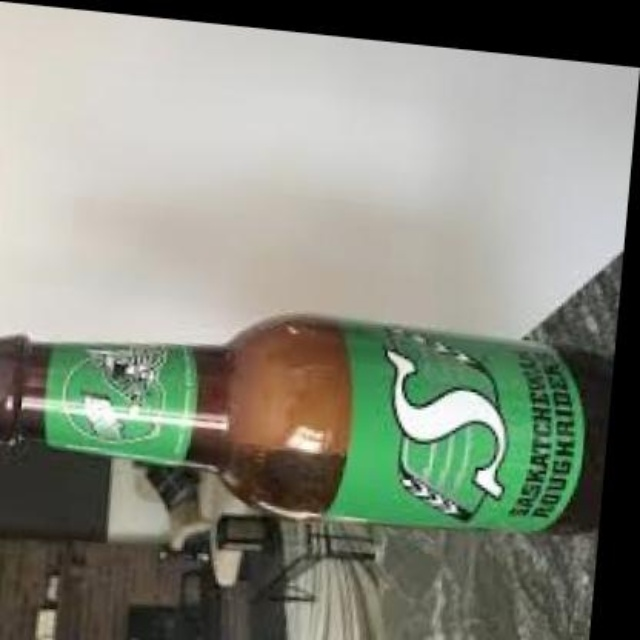trash: (0, 315, 583, 531)
